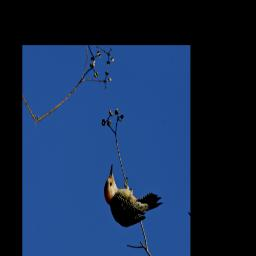Woodpecker: (95, 157, 168, 241)
